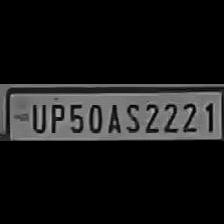0: (84, 100, 104, 132)
1: (200, 98, 216, 132)
2: (140, 98, 160, 132), (158, 98, 178, 132), (178, 98, 198, 132)
5: (65, 100, 84, 132)
A: (104, 99, 122, 133)
P: (46, 100, 66, 132)
S: (122, 98, 142, 132)
U: (28, 100, 46, 132)
